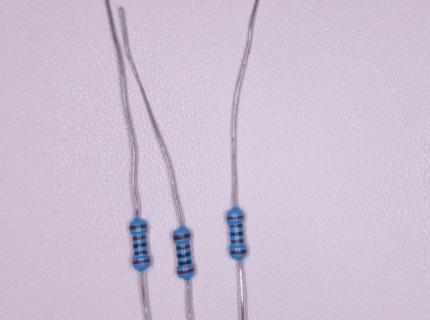Black band: (133, 250, 148, 256), (133, 243, 147, 249), (177, 252, 191, 258), (178, 260, 192, 266), (230, 232, 244, 236), (230, 224, 244, 228)
Brown band: (173, 232, 191, 240), (129, 224, 147, 230), (176, 244, 190, 251), (132, 235, 147, 241), (229, 250, 247, 254), (231, 239, 244, 244)
Red band: (132, 258, 150, 265), (177, 268, 194, 275), (227, 216, 244, 220)
